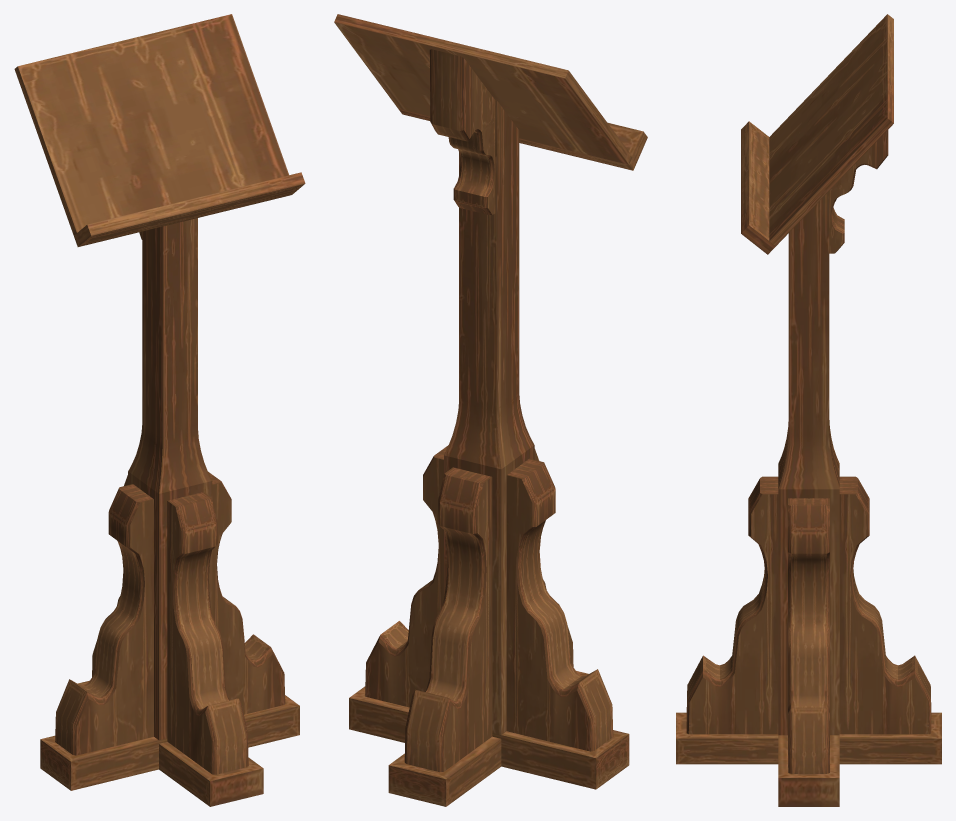
The model's file is BookStand.glb.
3 views of the same model, side by side, from view 1: azimuth 30°, elevation 25°; view 2: azimuth 150°, elevation 25°; view 3: azimuth 270°, elevation 25° (orthographic). The views are drawn at different scales.
Parts seen in each view (by area): view 1: BookStand; view 2: BookStand; view 3: BookStand.
Part boxes in pixels (x1,y1,x2,y2): BookStand: (14,14,305,806); BookStand: (334,14,647,806); BookStand: (676,14,941,806).
Bounding box in the file's own units: 0.5071 × 1.45 × 0.5112.
Materials: 1 (1 with a texture image).
